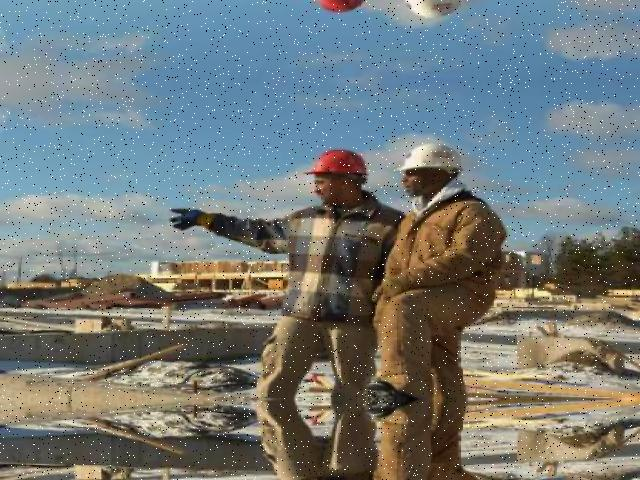Helmet: (389, 138, 466, 178), (298, 145, 371, 186)
